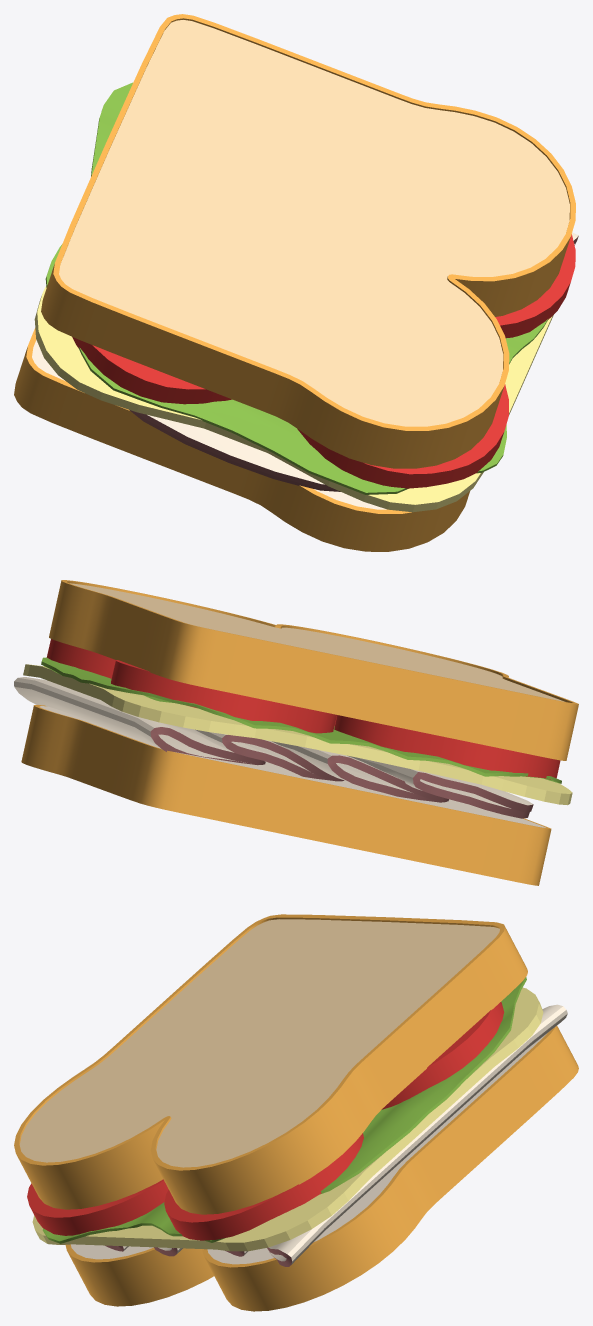
The model's file is sandwich.glb.
3 views of the same model, one above another, from view 1: azimuth 30°, elevation 25°; view 2: azimuth 150°, elevation 25°; view 3: azimuth 270°, elevation 25° (orthographic). The views are drawn at different scales.
Parts seen in each view (by area): view 1: Circle.2211; view 2: Circle.2211; view 3: Circle.2211.
Boxes of the visible parts, left/top/right/bottom form: Circle.2211: left=14, top=14, right=578, bottom=551; Circle.2211: left=14, top=580, right=578, bottom=885; Circle.2211: left=14, top=914, right=578, bottom=1311.
Bounding box in the file's own units: 2.18 × 1.45 × 2.11.
1 material, 1 textured.
